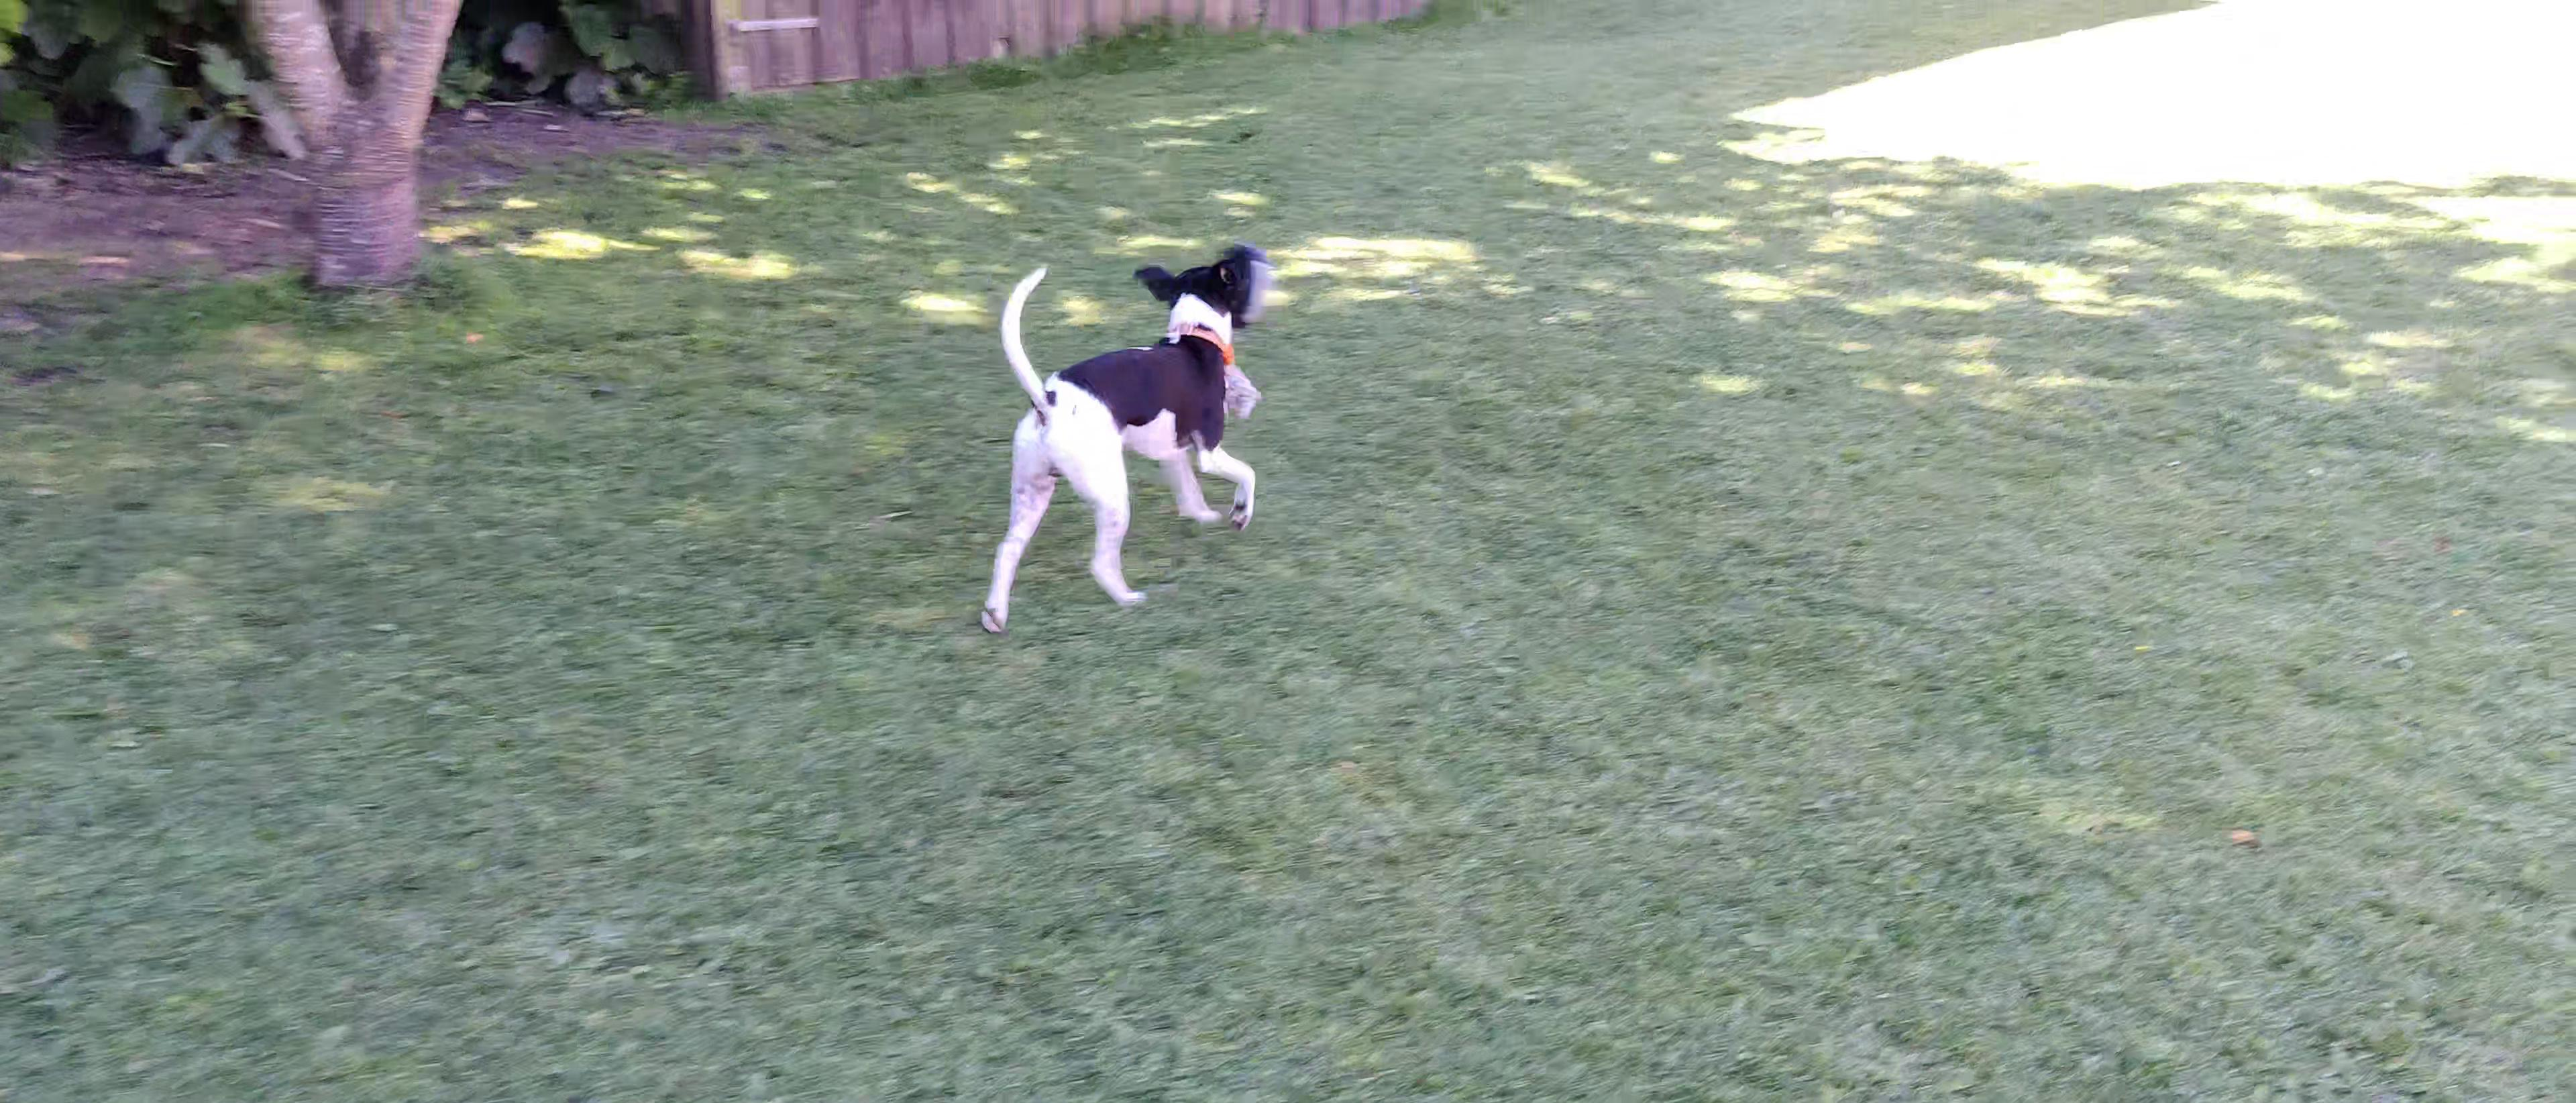Dog: (961, 253, 1258, 638)
